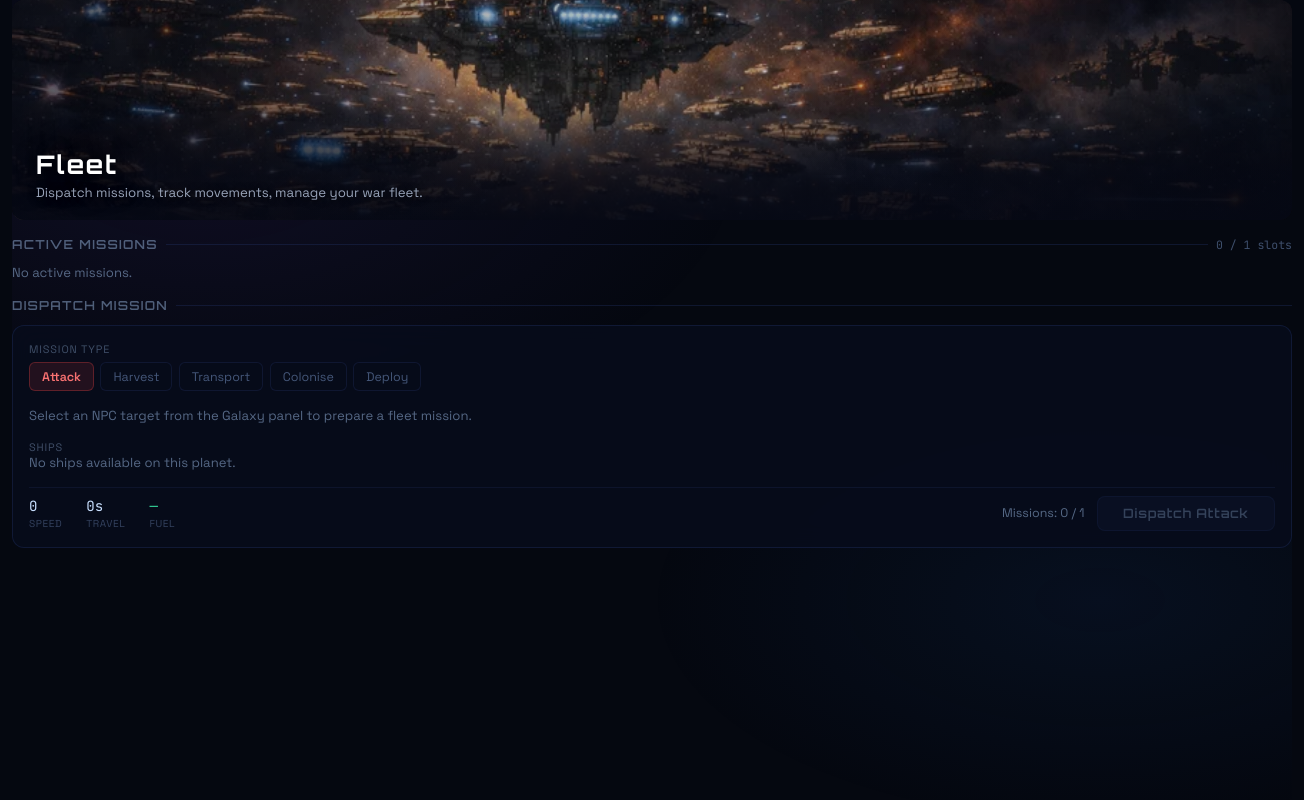
Scenario: FleetPanel › shows Send To dropdown when transport is selected with no pre-filled target
The width and height of the screenshot is (1304, 800).
Select "Transport" in the dropdown labelled "Mission Type". click: coordinates (70, 349)
box: [29,342,110,356]
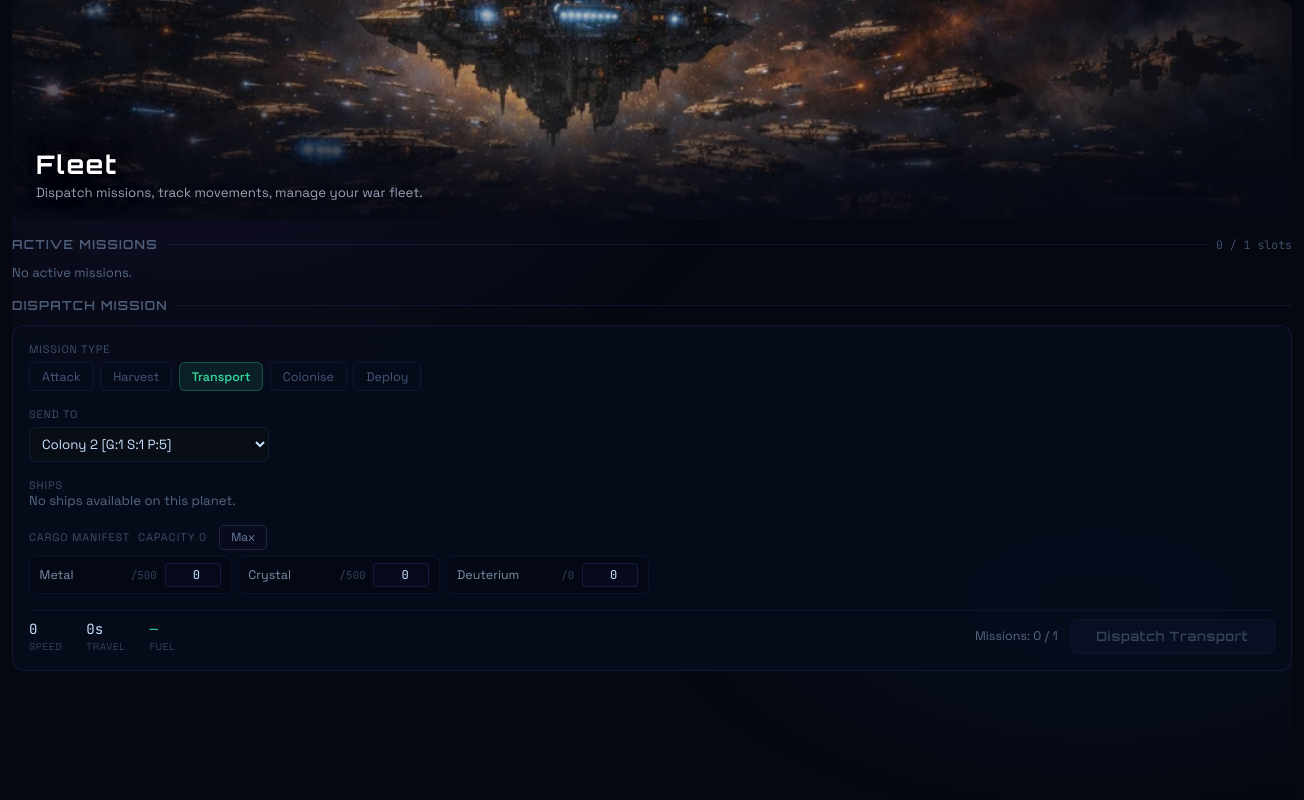
Result: the dropdown labelled "Send To" is shown at [29,427,269,462]
